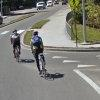Bicycle: (7, 23, 53, 89)
